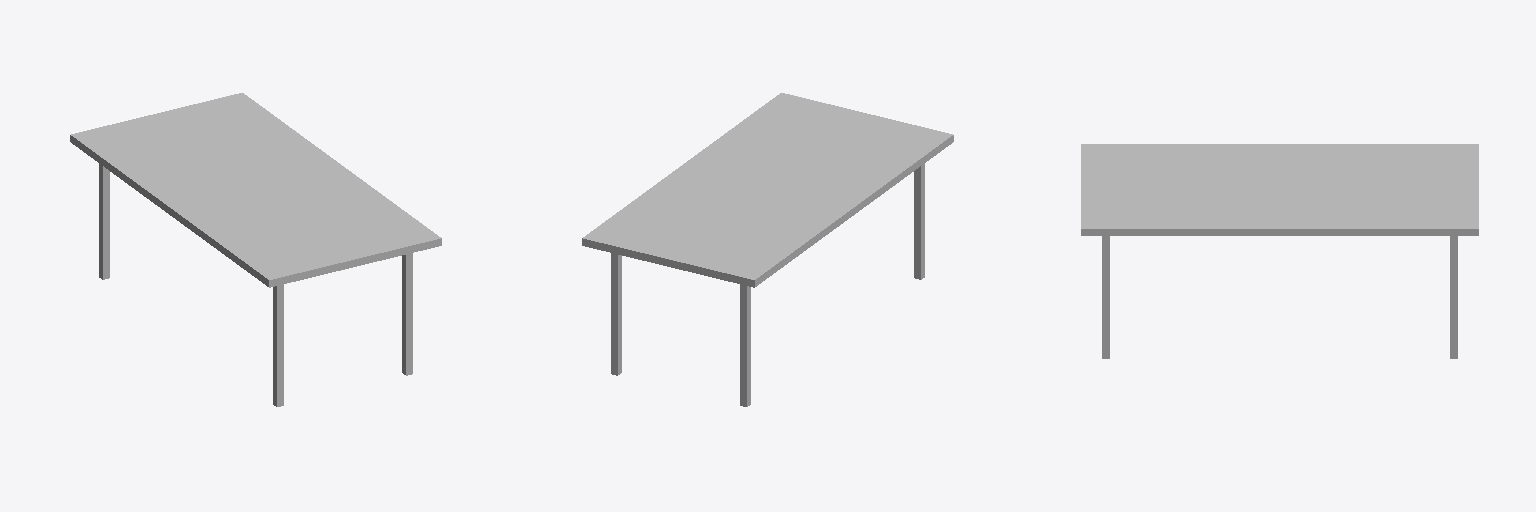
Rendered from tableFinale.obj.
The picture shows the model from 3 angles: view 1: azimuth 30°, elevation 25°; view 2: azimuth 150°, elevation 25°; view 3: azimuth 270°, elevation 25°; orthographic projection.
Visible parts, largest first — view 1: Cube.002_Cube.000; view 2: Cube.002_Cube.000; view 3: Cube.002_Cube.000.
Boxes of the visible parts, x1=… form: Cube.002_Cube.000: x1=70, y1=93, x2=441, y2=406; Cube.002_Cube.000: x1=582, y1=93, x2=953, y2=406; Cube.002_Cube.000: x1=1081, y1=144, x2=1478, y2=358.
Size of the model in its own units: 48 by 37 by 96.